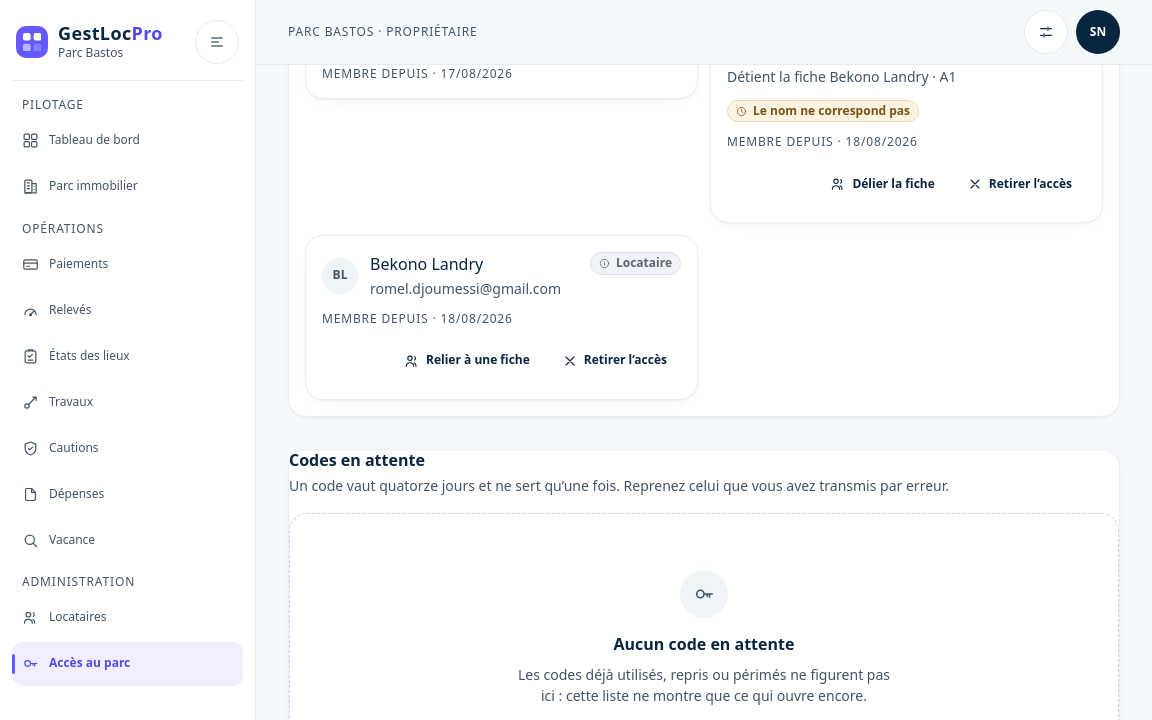
it: les noms qui divergent › avertit AVANT de relier, quand la fiche choisie porte un autre nom
(page scrolled)
Expected: the list item "Bekono Landry" is shown, [370, 253, 483, 275]
Click the button "Relier à une fiche": click(467, 361) [390, 339, 544, 383]
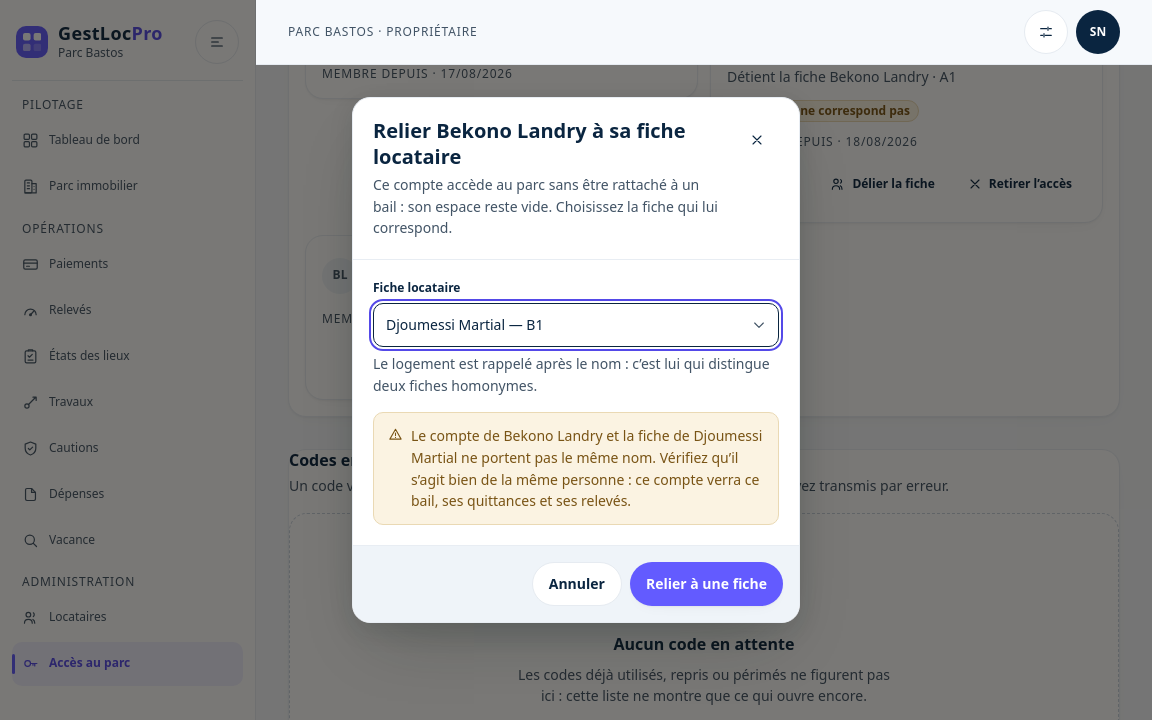
Expected: the text "pas le même nom" shows "Bekono Landry", [411, 426, 762, 510]
Expected: the text "pas le même nom" shows "Djoumessi Martial", [411, 426, 762, 510]
